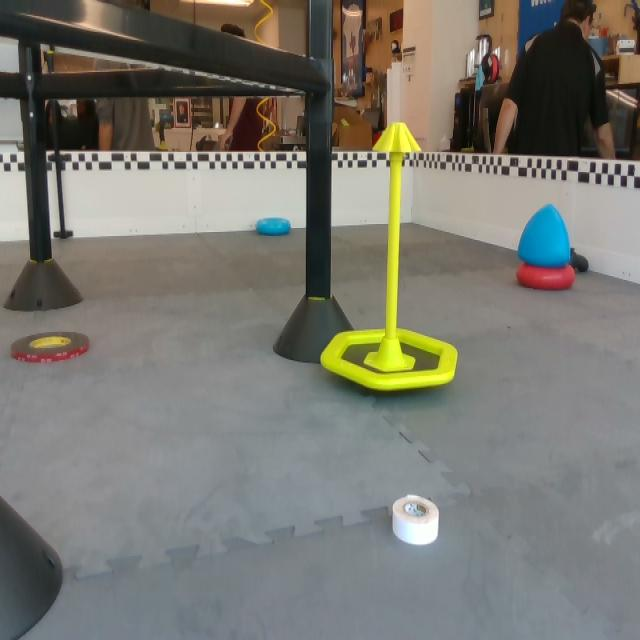Blue-Ring: (256, 215, 292, 240)
Mobile-Goal: (317, 121, 461, 393)
Red-Ring: (515, 264, 577, 290)
Yellow-Stake-Head: (372, 120, 422, 156)
